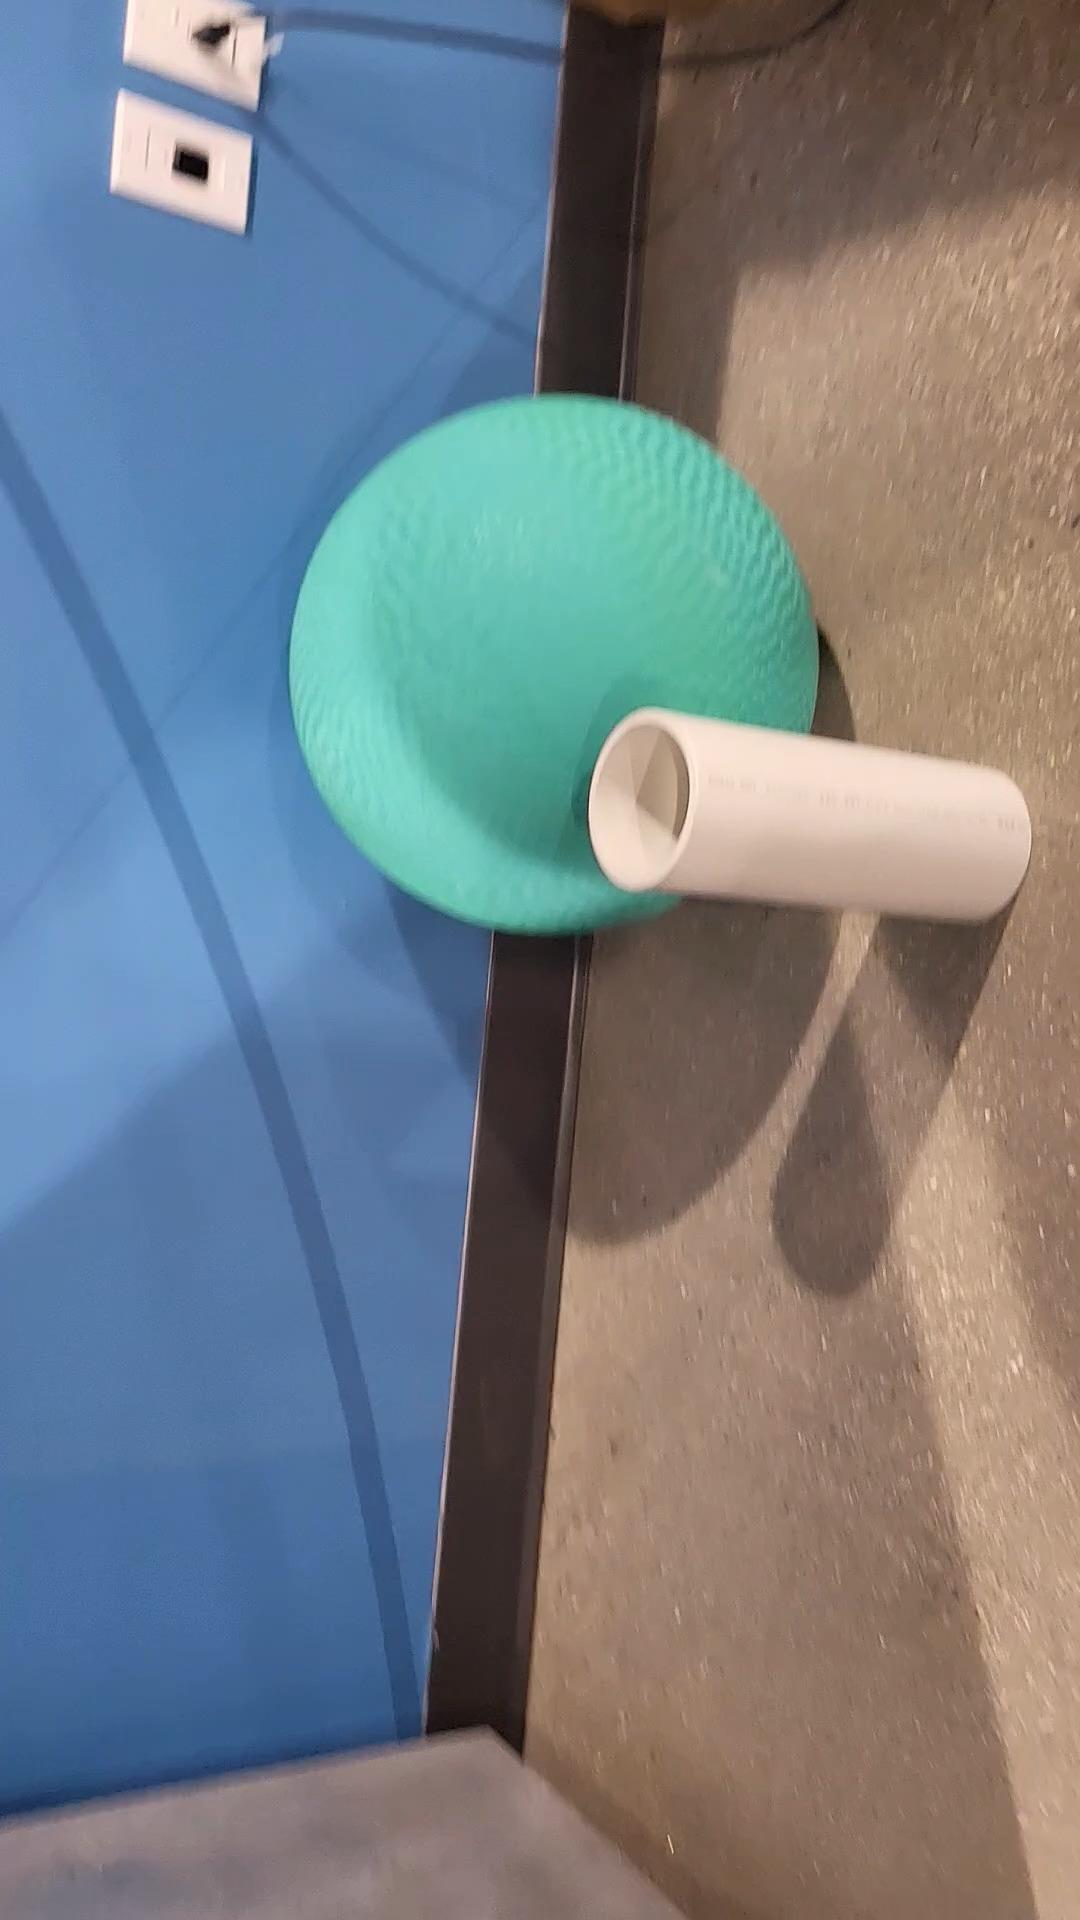algae: (290, 402, 818, 935)
coral: (588, 709, 1038, 927)
